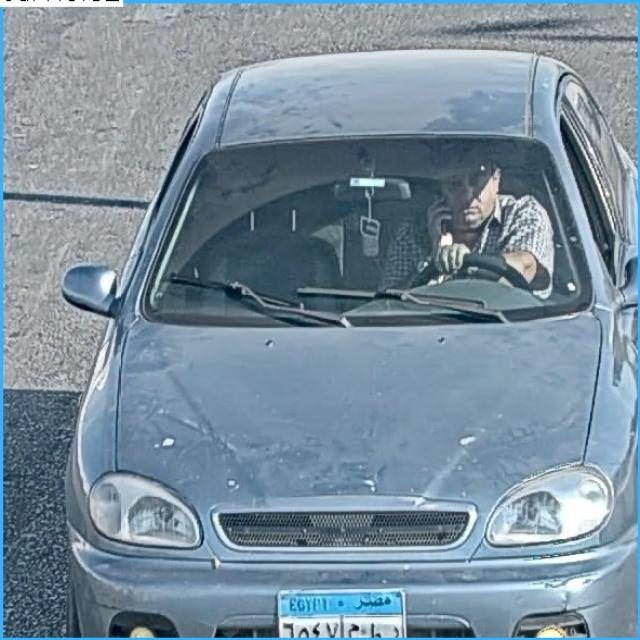windshield: (147, 140, 584, 313)
